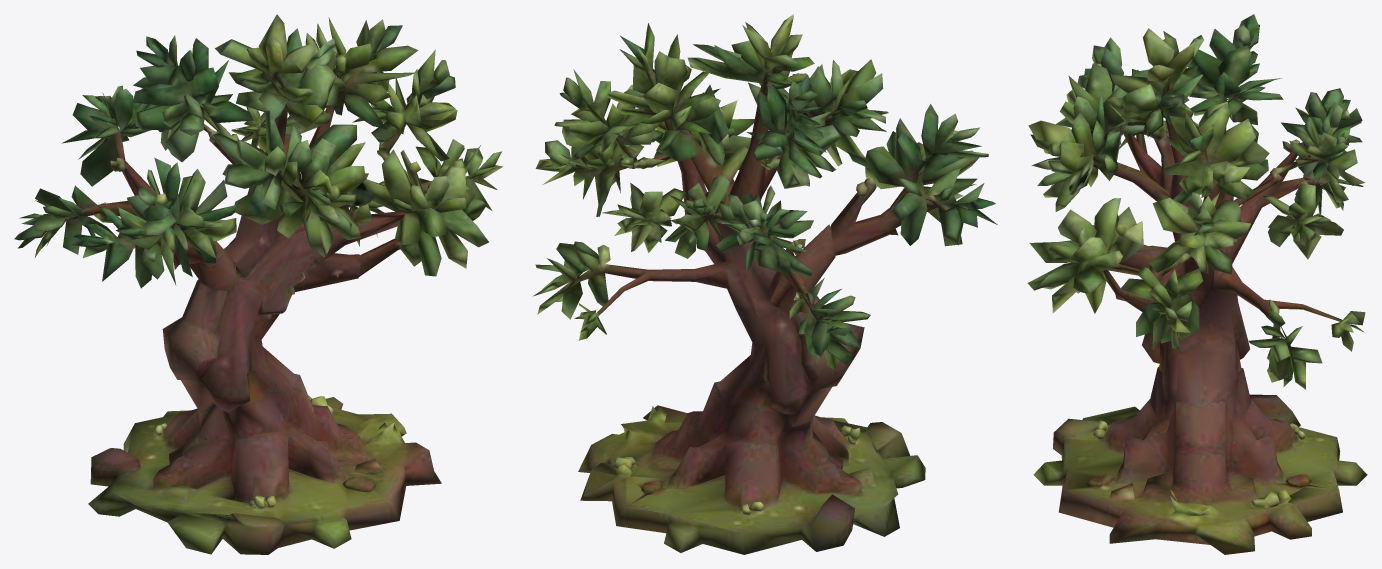
Rendered from oliveira_lod1.glb.
3 views of the same model, side by side, from view 1: azimuth 30°, elevation 25°; view 2: azimuth 150°, elevation 25°; view 3: azimuth 270°, elevation 25° (orthographic). The views are drawn at different scales.
Parts seen in each view (by area): view 1: tripo_node_34d3e126-5093-4899-a6b7-428b5d5d4a25; view 2: tripo_node_34d3e126-5093-4899-a6b7-428b5d5d4a25; view 3: tripo_node_34d3e126-5093-4899-a6b7-428b5d5d4a25.
Boxes of the visible parts, x1,y1,x2,y2 form: tripo_node_34d3e126-5093-4899-a6b7-428b5d5d4a25: (14,14,503,554); tripo_node_34d3e126-5093-4899-a6b7-428b5d5d4a25: (533,14,997,554); tripo_node_34d3e126-5093-4899-a6b7-428b5d5d4a25: (1027,14,1367,554).
Size of the model in its own units: 0.971 by 0.9671 by 0.6665.
Materials: 1 (1 with a texture image).
